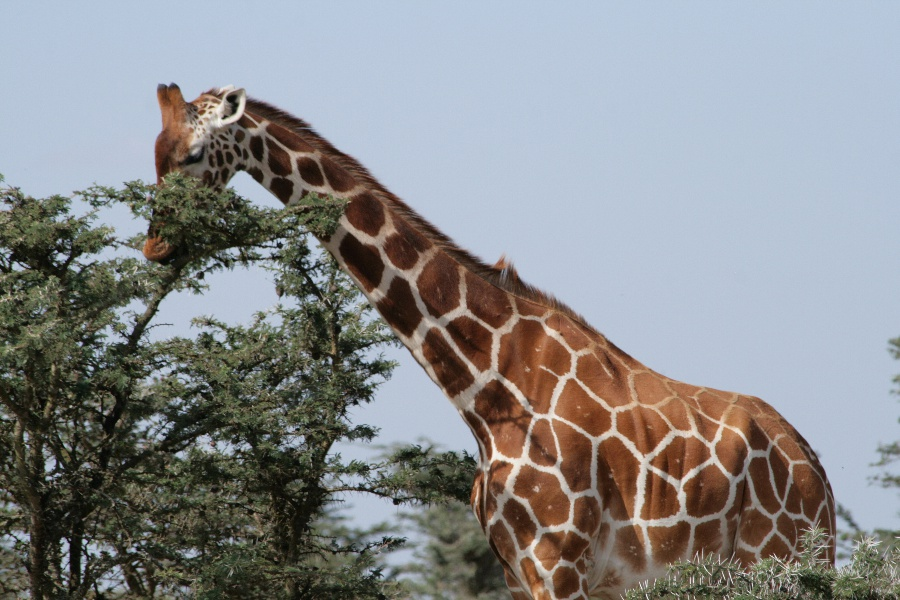giraffe: (147, 79, 844, 599)
